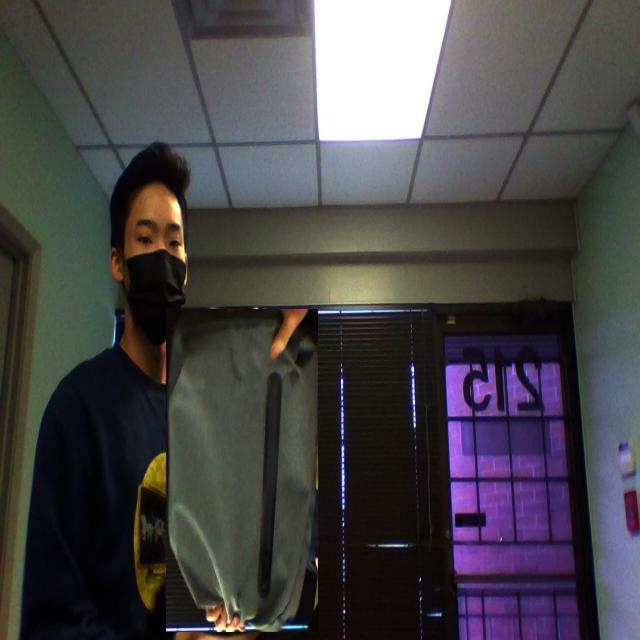Backpacks: (166, 309, 319, 633)
